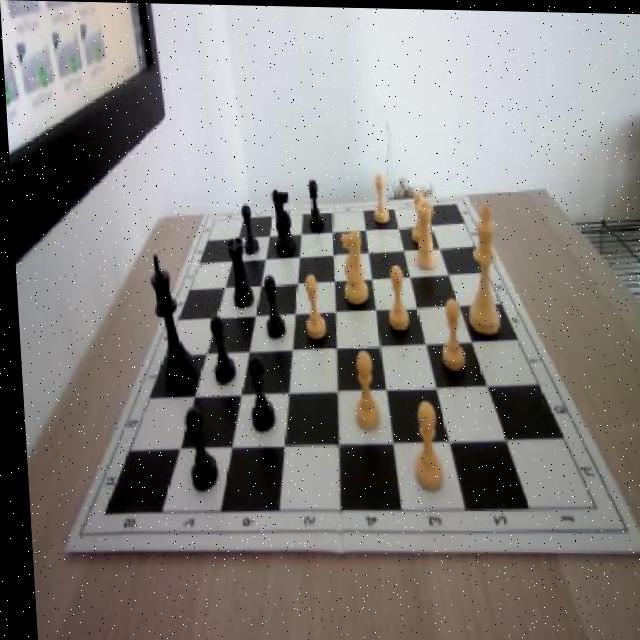black-bishop: (145, 255, 192, 391)
black-king: (269, 185, 293, 257)
black-knight: (180, 406, 213, 490), (241, 353, 270, 430), (206, 314, 233, 384), (257, 272, 282, 340), (238, 203, 256, 256), (303, 176, 321, 226)
black-queen: (220, 232, 250, 308)
white-bishop: (459, 203, 498, 334)
white-king: (337, 225, 366, 304)
white-knight: (405, 399, 441, 490), (343, 346, 378, 431), (434, 295, 465, 372), (382, 264, 409, 332), (298, 271, 322, 337), (406, 190, 426, 240), (368, 174, 388, 223)
white-queen: (409, 198, 435, 268)
